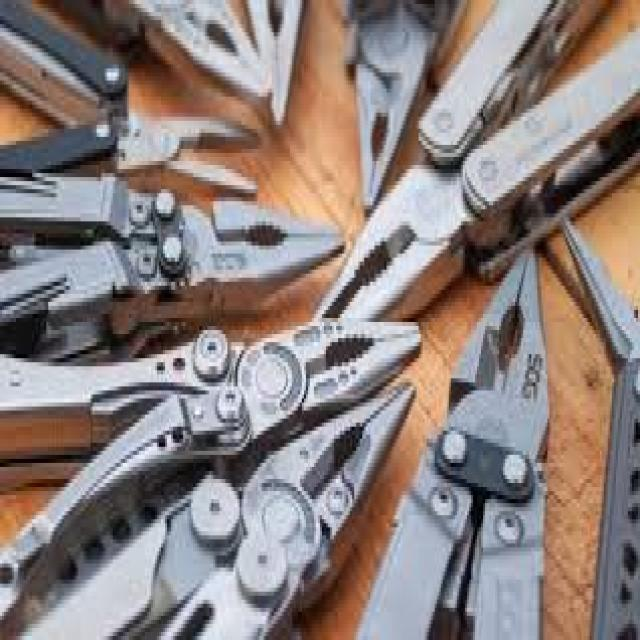pliers: (0, 308, 427, 532), (148, 381, 420, 640), (0, 165, 352, 362), (393, 234, 558, 640), (355, 0, 463, 215)
